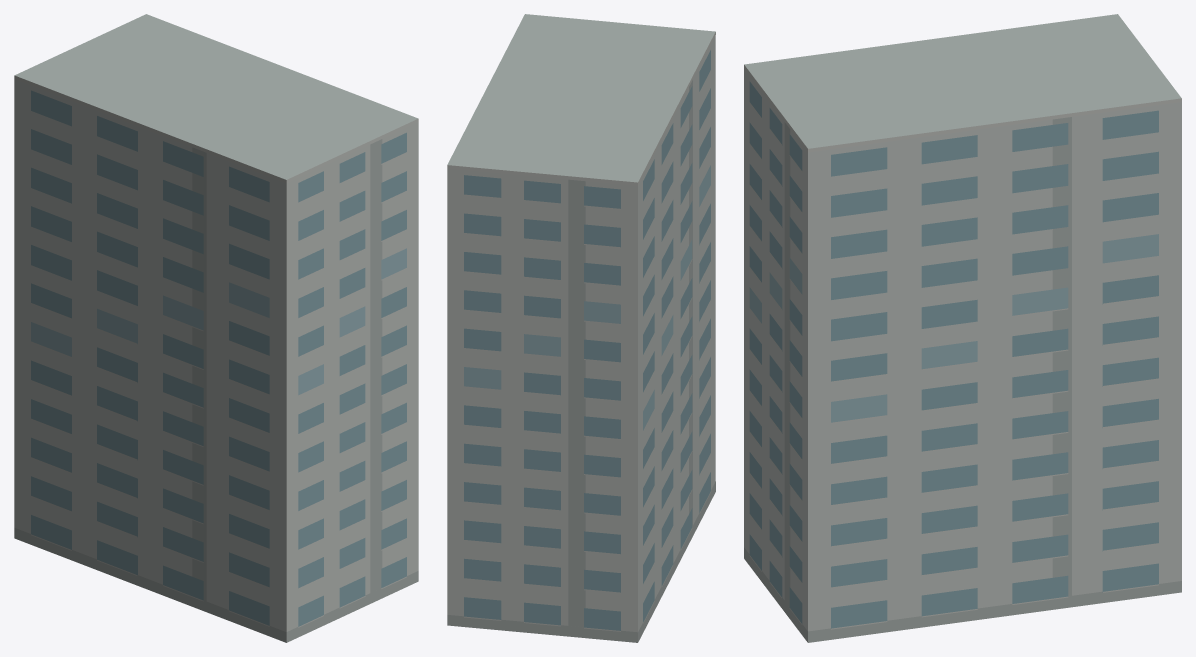
Rendered from residential-c900ba87-e658-40f2-8f50-7077b6272e8b.glb.
3 views of the same model, side by side, from view 1: azimuth 30°, elevation 25°; view 2: azimuth 150°, elevation 25°; view 3: azimuth 270°, elevation 25° (orthographic). The views are drawn at different scales.
Parts seen in each view (by area): view 1: residential-c900ba87-e658-40f2-8f50-7077b6272e8b.tmp; view 2: residential-c900ba87-e658-40f2-8f50-7077b6272e8b.tmp; view 3: residential-c900ba87-e658-40f2-8f50-7077b6272e8b.tmp.
Boxes of the visible parts, bbox=[...] form: residential-c900ba87-e658-40f2-8f50-7077b6272e8b.tmp: bbox=[14, 14, 418, 642]; residential-c900ba87-e658-40f2-8f50-7077b6272e8b.tmp: bbox=[447, 14, 715, 642]; residential-c900ba87-e658-40f2-8f50-7077b6272e8b.tmp: bbox=[744, 14, 1181, 642].
Bounding box in the file's own units: 18.74 × 32 × 25.7.
